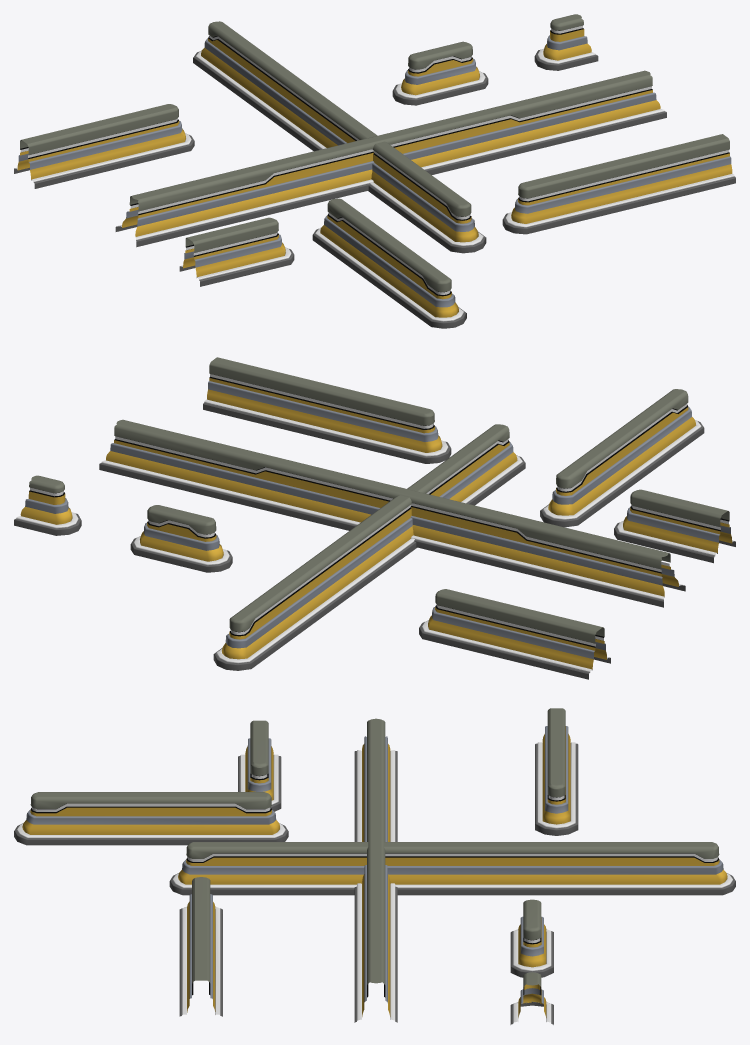
The model's file is Small walls.fbx.
The picture shows the model from 3 angles, top to bottom: view 1: azimuth 30°, elevation 25°; view 2: azimuth 150°, elevation 25°; view 3: azimuth 270°, elevation 25°; orthographic projection. The views are drawn at different scales.
Visible parts, largest first — view 1: Small_wallv1_4, Small_wallv1_60, Small_wall_L6, Small_wall_L91, Small_wallv1_18, Small_wall_L92, Small_wallv1_17, Small_wallv2_15; view 2: Small_wallv1_4, Small_wallv1_60, Small_wall_L6, Small_wall_L91, Small_wallv1_18, Small_wall_L92, Small_wallv1_17, Small_wallv2_15; view 3: Small_wallv1_60, Small_wallv1_18, Small_wallv1_4, Small_wall_L91, Small_wall_L6, Small_wallv1_17, Small_wall_L92, Small_wallv2_15.
Part boxes in pixels (x1,y1,x2,y2): Small_wallv1_4: (115,70,666,247); Small_wallv1_60: (193,21,486,253); Small_wall_L6: (502,134,735,234); Small_wall_L91: (14,104,194,188); Small_wallv1_18: (312,198,466,328); Small_wall_L92: (179,217,294,286); Small_wallv1_17: (392,41,488,105); Small_wallv2_15: (534,14,598,70); Small_wallv1_4: (99,419,685,607); Small_wallv1_60: (213,424,525,670); Small_wall_L6: (203,357,451,463); Small_wall_L91: (419,589,610,679); Small_wallv1_18: (540,389,704,527); Small_wall_L92: (614,489,735,563); Small_wallv1_17: (130,505,232,572); Small_wallv2_15: (14,475,81,535); Small_wallv1_60: (169,842,735,895); Small_wallv1_18: (14,792,288,845); Small_wallv1_4: (354,718,397,1022); Small_wall_L91: (535,708,578,835); Small_wall_L6: (179,877,222,1016); Small_wallv1_17: (510,899,553,977); Small_wall_L92: (238,720,281,811); Small_wallv2_15: (510,972,553,1024).
Size of the model in its own units: 532 by 38.67 by 575.
